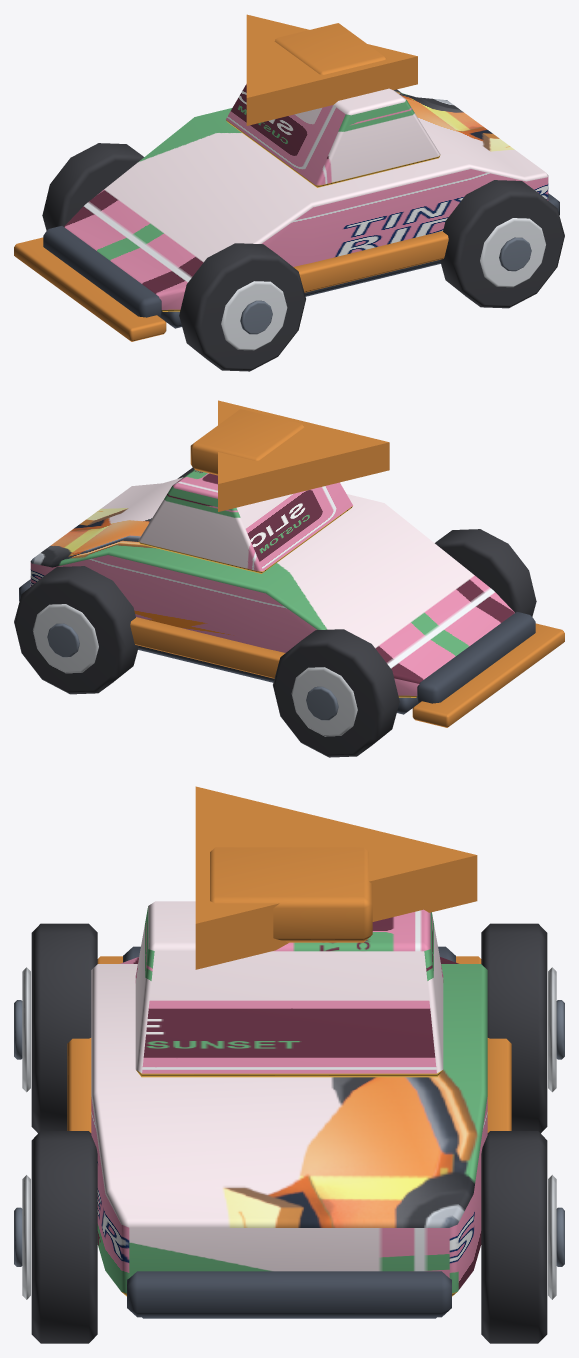
3 views of the same model, one above another, from view 1: azimuth 30°, elevation 25°; view 2: azimuth 150°, elevation 25°; view 3: azimuth 270°, elevation 25° (orthographic). The views are drawn at different scales.
Visible parts, largest first — view 1: SS-02_connected_shell, SS-02_cabin, flat pizza wedge, Tire, Tire.002, Tire.001, custom chin, custom side guard, front bumper, custom equipment, Rim, Rim.002 (+3 smaller); view 2: SS-02_connected_shell, SS-02_cabin, flat pizza wedge, Tire.001, Tire.003, Tire, custom chin, custom side guard.001, custom equipment, front bumper, Rim.001, Rim.003 (+3 smaller); view 3: SS-02_connected_shell, SS-02_cabin, flat pizza wedge, rear bumper, Tire.002, Tire.003, custom equipment, Tire, Tire.001, custom side guard, custom side guard.001, Rim (+3 smaller).
Part boxes in pixels (x1=…): SS-02_connected_shell: x1=64, y1=91, x2=548, y2=311; SS-02_cabin: x1=226, y1=84, x2=440, y2=187; flat pizza wedge: x1=246, y1=14, x2=417, y2=125; Tire: x1=179, y1=243, x2=305, y2=371; Tire.002: x1=440, y1=180, x2=564, y2=308; Tire.001: x1=42, y1=143, x2=143, y2=230; custom chin: x1=14, y1=237, x2=166, y2=341; custom side guard: x1=293, y1=231, x2=448, y2=292; front bumper: x1=43, y1=226, x2=162, y2=317; custom equipment: x1=274, y1=23, x2=386, y2=74; Rim: x1=221, y1=281, x2=287, y2=350; Rim.002: x1=480, y1=218, x2=545, y2=287; SS-02_connected_shell: x1=30, y1=477, x2=514, y2=697; SS-02_cabin: x1=138, y1=469, x2=352, y2=573; flat pizza wedge: x1=218, y1=400, x2=389, y2=511; Tire.001: x1=273, y1=629, x2=399, y2=757; Tire.003: x1=14, y1=566, x2=138, y2=694; Tire: x1=435, y1=529, x2=536, y2=616; custom chin: x1=412, y1=623, x2=564, y2=727; custom side guard.001: x1=130, y1=617, x2=285, y2=678; custom equipment: x1=190, y1=409, x2=304, y2=475; front bumper: x1=416, y1=612, x2=535, y2=703; Rim.001: x1=291, y1=667, x2=357, y2=736; Rim.003: x1=33, y1=604, x2=98, y2=673; SS-02_connected_shell: x1=91, y1=957, x2=487, y2=1296; SS-02_cabin: x1=135, y1=901, x2=443, y2=1077; flat pizza wedge: x1=195, y1=786, x2=477, y2=969; rear bumper: x1=127, y1=1271, x2=451, y2=1317; Tire.002: x1=31, y1=1131, x2=97, y2=1343; Tire.003: x1=481, y1=1131, x2=547, y2=1343; custom equipment: x1=210, y1=847, x2=372, y2=942; Tire: x1=31, y1=923, x2=97, y2=1133; Tire.001: x1=481, y1=923, x2=547, y2=1133; custom side guard: x1=67, y1=1038, x2=91, y2=1132; custom side guard.001: x1=487, y1=1038, x2=511, y2=1132; Rim: x1=22, y1=967, x2=30, y2=1092.
Bounding box in the file's own units: 330 × 165 × 217.
